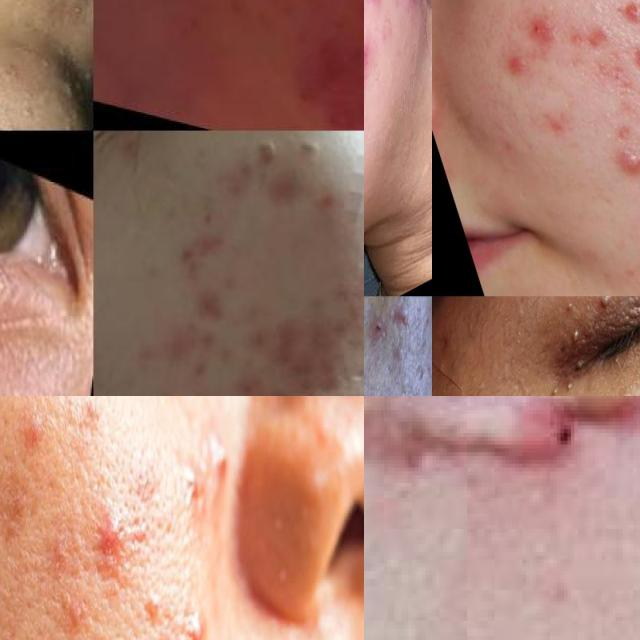acne_scars: (162, 222, 224, 284), (592, 58, 634, 108), (183, 292, 228, 326)
comedone: (342, 262, 364, 295), (60, 0, 88, 25)
flat_wart: (0, 70, 93, 130)
keloid: (364, 396, 640, 477)
milium: (560, 310, 586, 354), (548, 381, 560, 396)
papule: (250, 303, 364, 396), (94, 516, 127, 573), (499, 44, 536, 92), (316, 95, 358, 131), (177, 603, 213, 640), (526, 9, 555, 49), (624, 3, 640, 36)
pustule: (599, 132, 640, 191)
